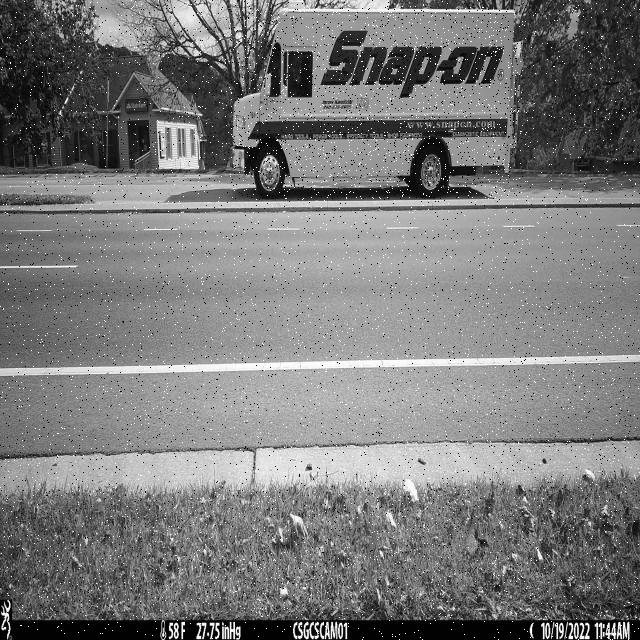Box Truck: (229, 9, 523, 199)
